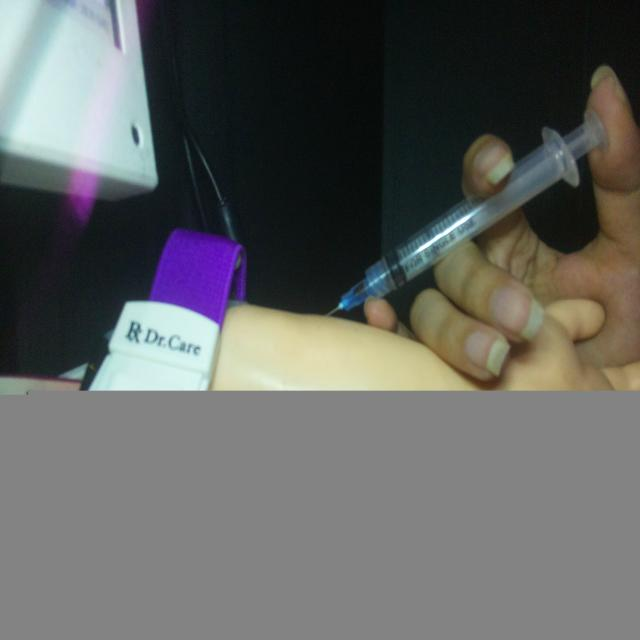26 degrees: (324, 105, 606, 320)
